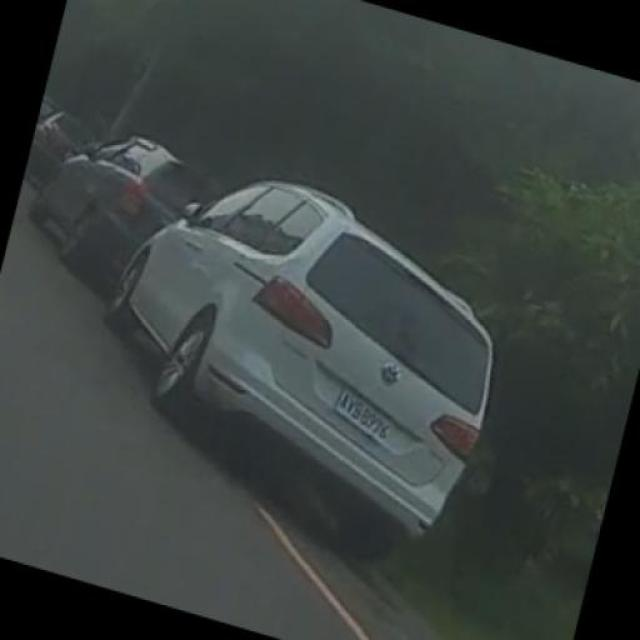illegalparking: (28, 136, 490, 551)
